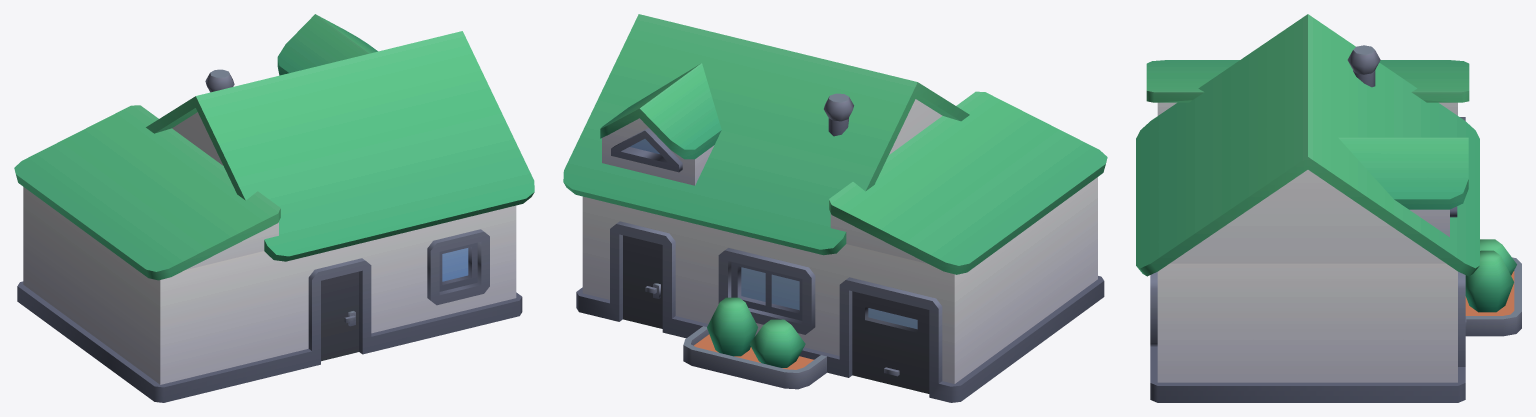
File: house-i.glb
3 views of the same model, side by side, from view 1: azimuth 30°, elevation 25°; view 2: azimuth 150°, elevation 25°; view 3: azimuth 270°, elevation 25° (orthographic). The views are drawn at different scales.
Visible parts, largest first — view 1: building-type-i; view 2: building-type-i; view 3: building-type-i.
Boxes of the visible parts, x1,y1,x2,y2 form: building-type-i: (14,14,534,402); building-type-i: (563,14,1107,402); building-type-i: (1136,14,1521,402).
Bounding box in the file's own units: 1.29 × 0.7375 × 1.03.
1 material, 1 textured.
